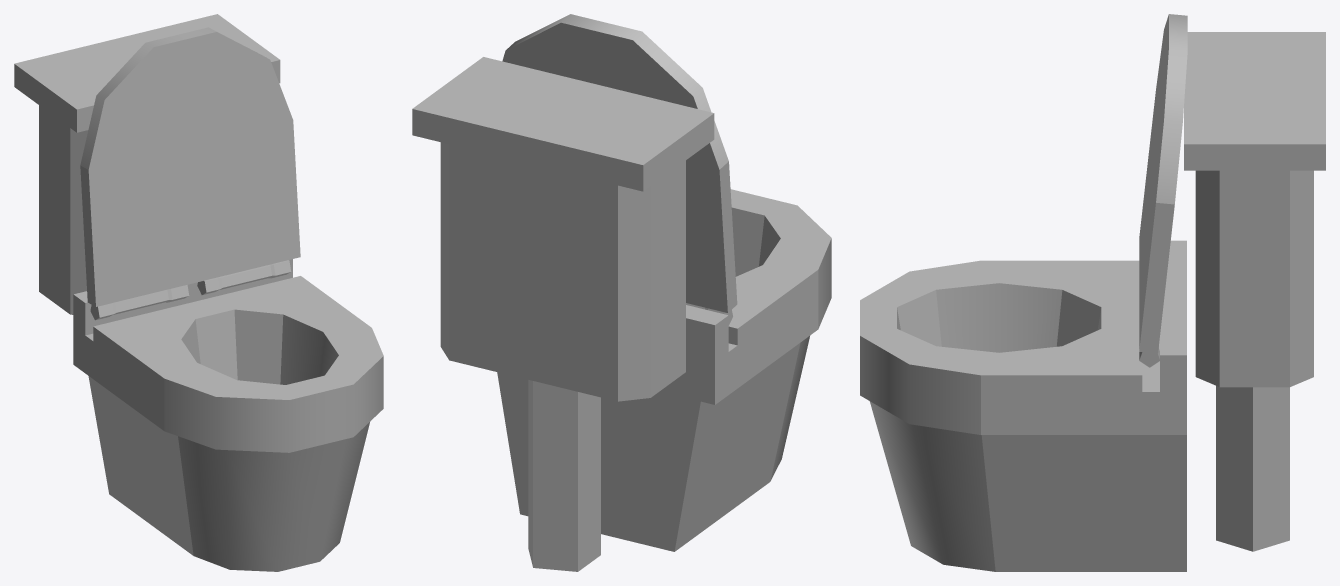
The model's file is Toilet2.fbx.
The picture shows the model from 3 angles, left to right: view 1: azimuth 30°, elevation 25°; view 2: azimuth 150°, elevation 25°; view 3: azimuth 270°, elevation 25°; orthographic projection. The views are drawn at different scales.
Visible parts, largest first — view 1: Toilet2; view 2: Toilet2; view 3: Toilet2.
Boxes of the visible parts, x1,y1,x2,y2 form: Toilet2: (14,14,383,571); Toilet2: (412,14,831,571); Toilet2: (860,14,1325,571).
Bounding box in the file's own units: 39.2 × 80.07 × 67.23.
1 material, 1 textured.
